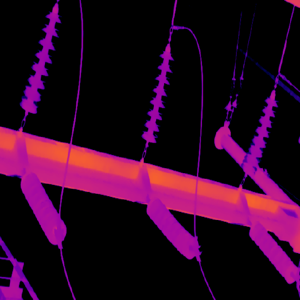insulator: (18, 10, 61, 114), (18, 168, 67, 246), (144, 192, 199, 261), (247, 217, 300, 285), (239, 87, 278, 176), (141, 41, 173, 143)
